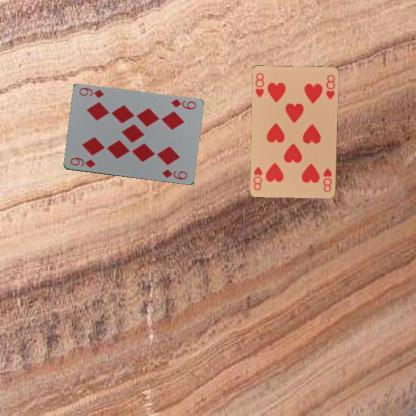8h: (320, 166, 334, 193), (253, 70, 265, 100)
9d: (67, 154, 96, 170), (168, 96, 198, 111)
